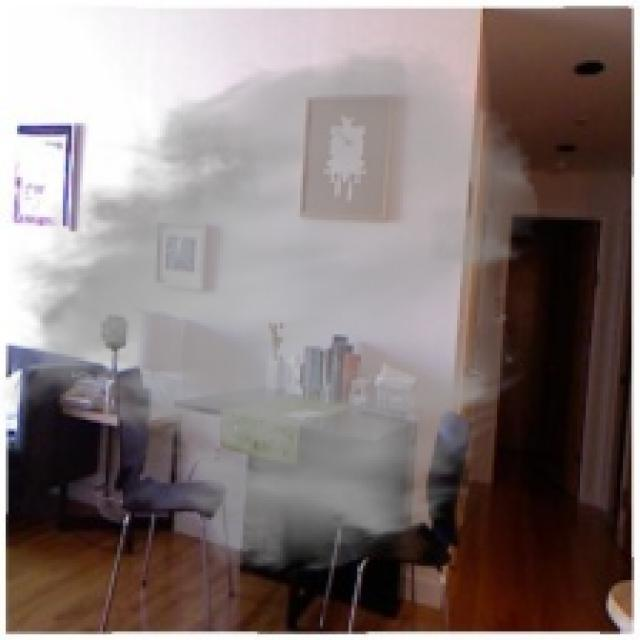smoke: (0, 40, 543, 577)
